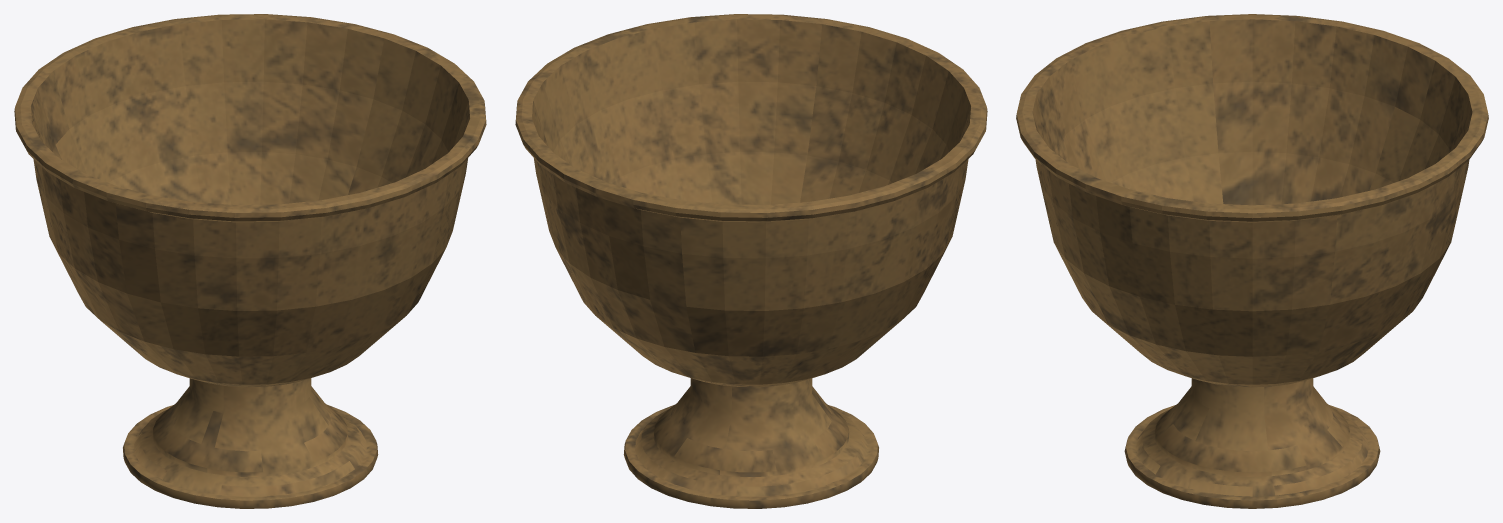
The model's file is Bowl_1_JBischer.fbx.
3 renders of one model, left to right at view 1: azimuth 30°, elevation 25°; view 2: azimuth 150°, elevation 25°; view 3: azimuth 270°, elevation 25°, orthographic.
Visible parts, largest first — view 1: Cylinder; view 2: Cylinder; view 3: Cylinder.
Boxes of the visible parts, bbox=[...] form: Cylinder: bbox=[14, 14, 486, 508]; Cylinder: bbox=[515, 14, 987, 508]; Cylinder: bbox=[1016, 14, 1488, 508].
Bounding box in the file's own units: 248 × 199 × 248.
